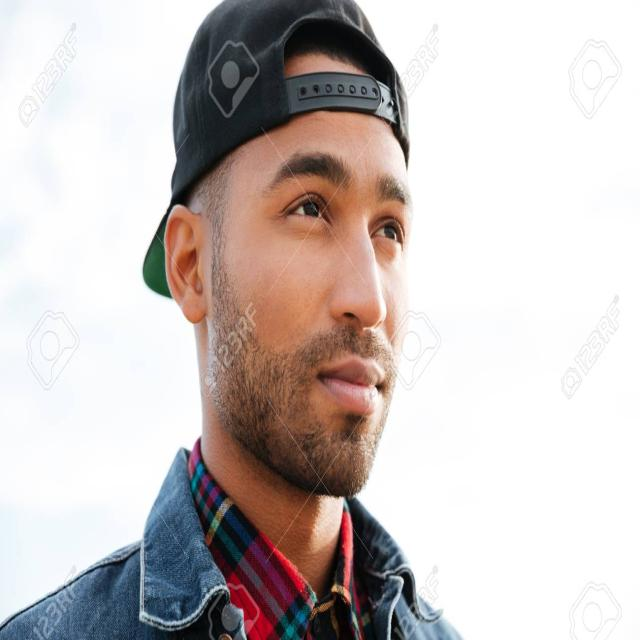cap: (132, 1, 420, 497)
